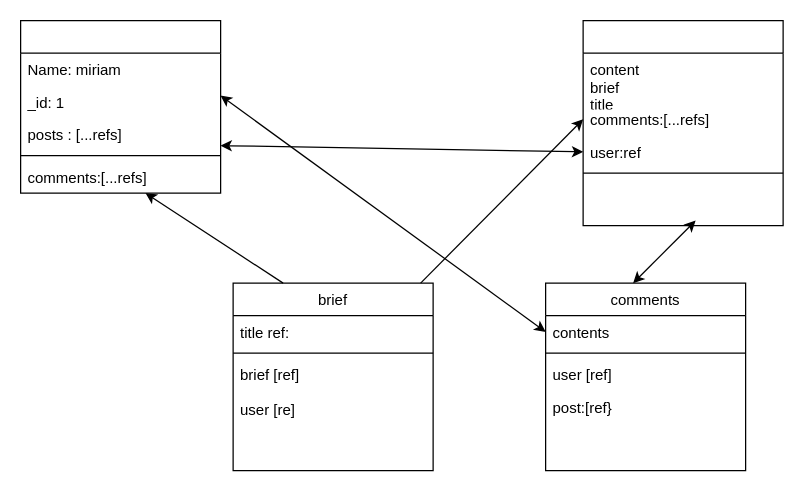
Some shapes in this 804 by 491 pixel diagram are drawn without their labels. Here are the shapes that lost their labels. From the top down, the box of each, then its label:
(19, 19, 221, 193): users
(582, 19, 783, 226): posts
